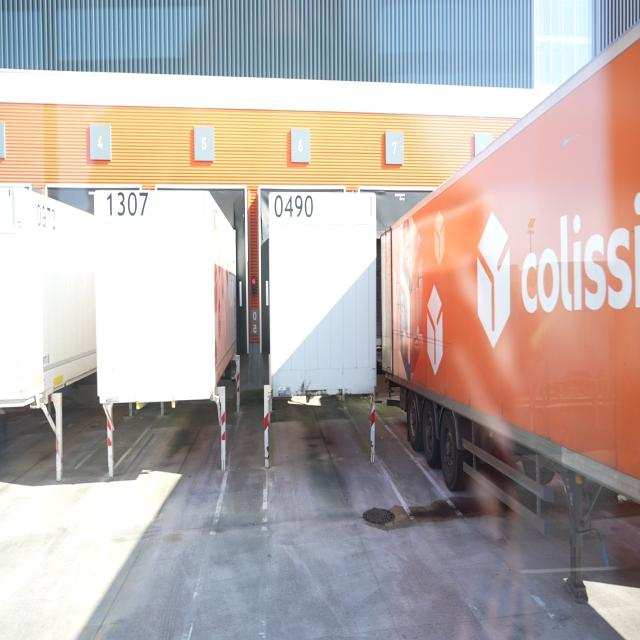Code: (105, 189, 150, 219), (270, 192, 314, 220)
